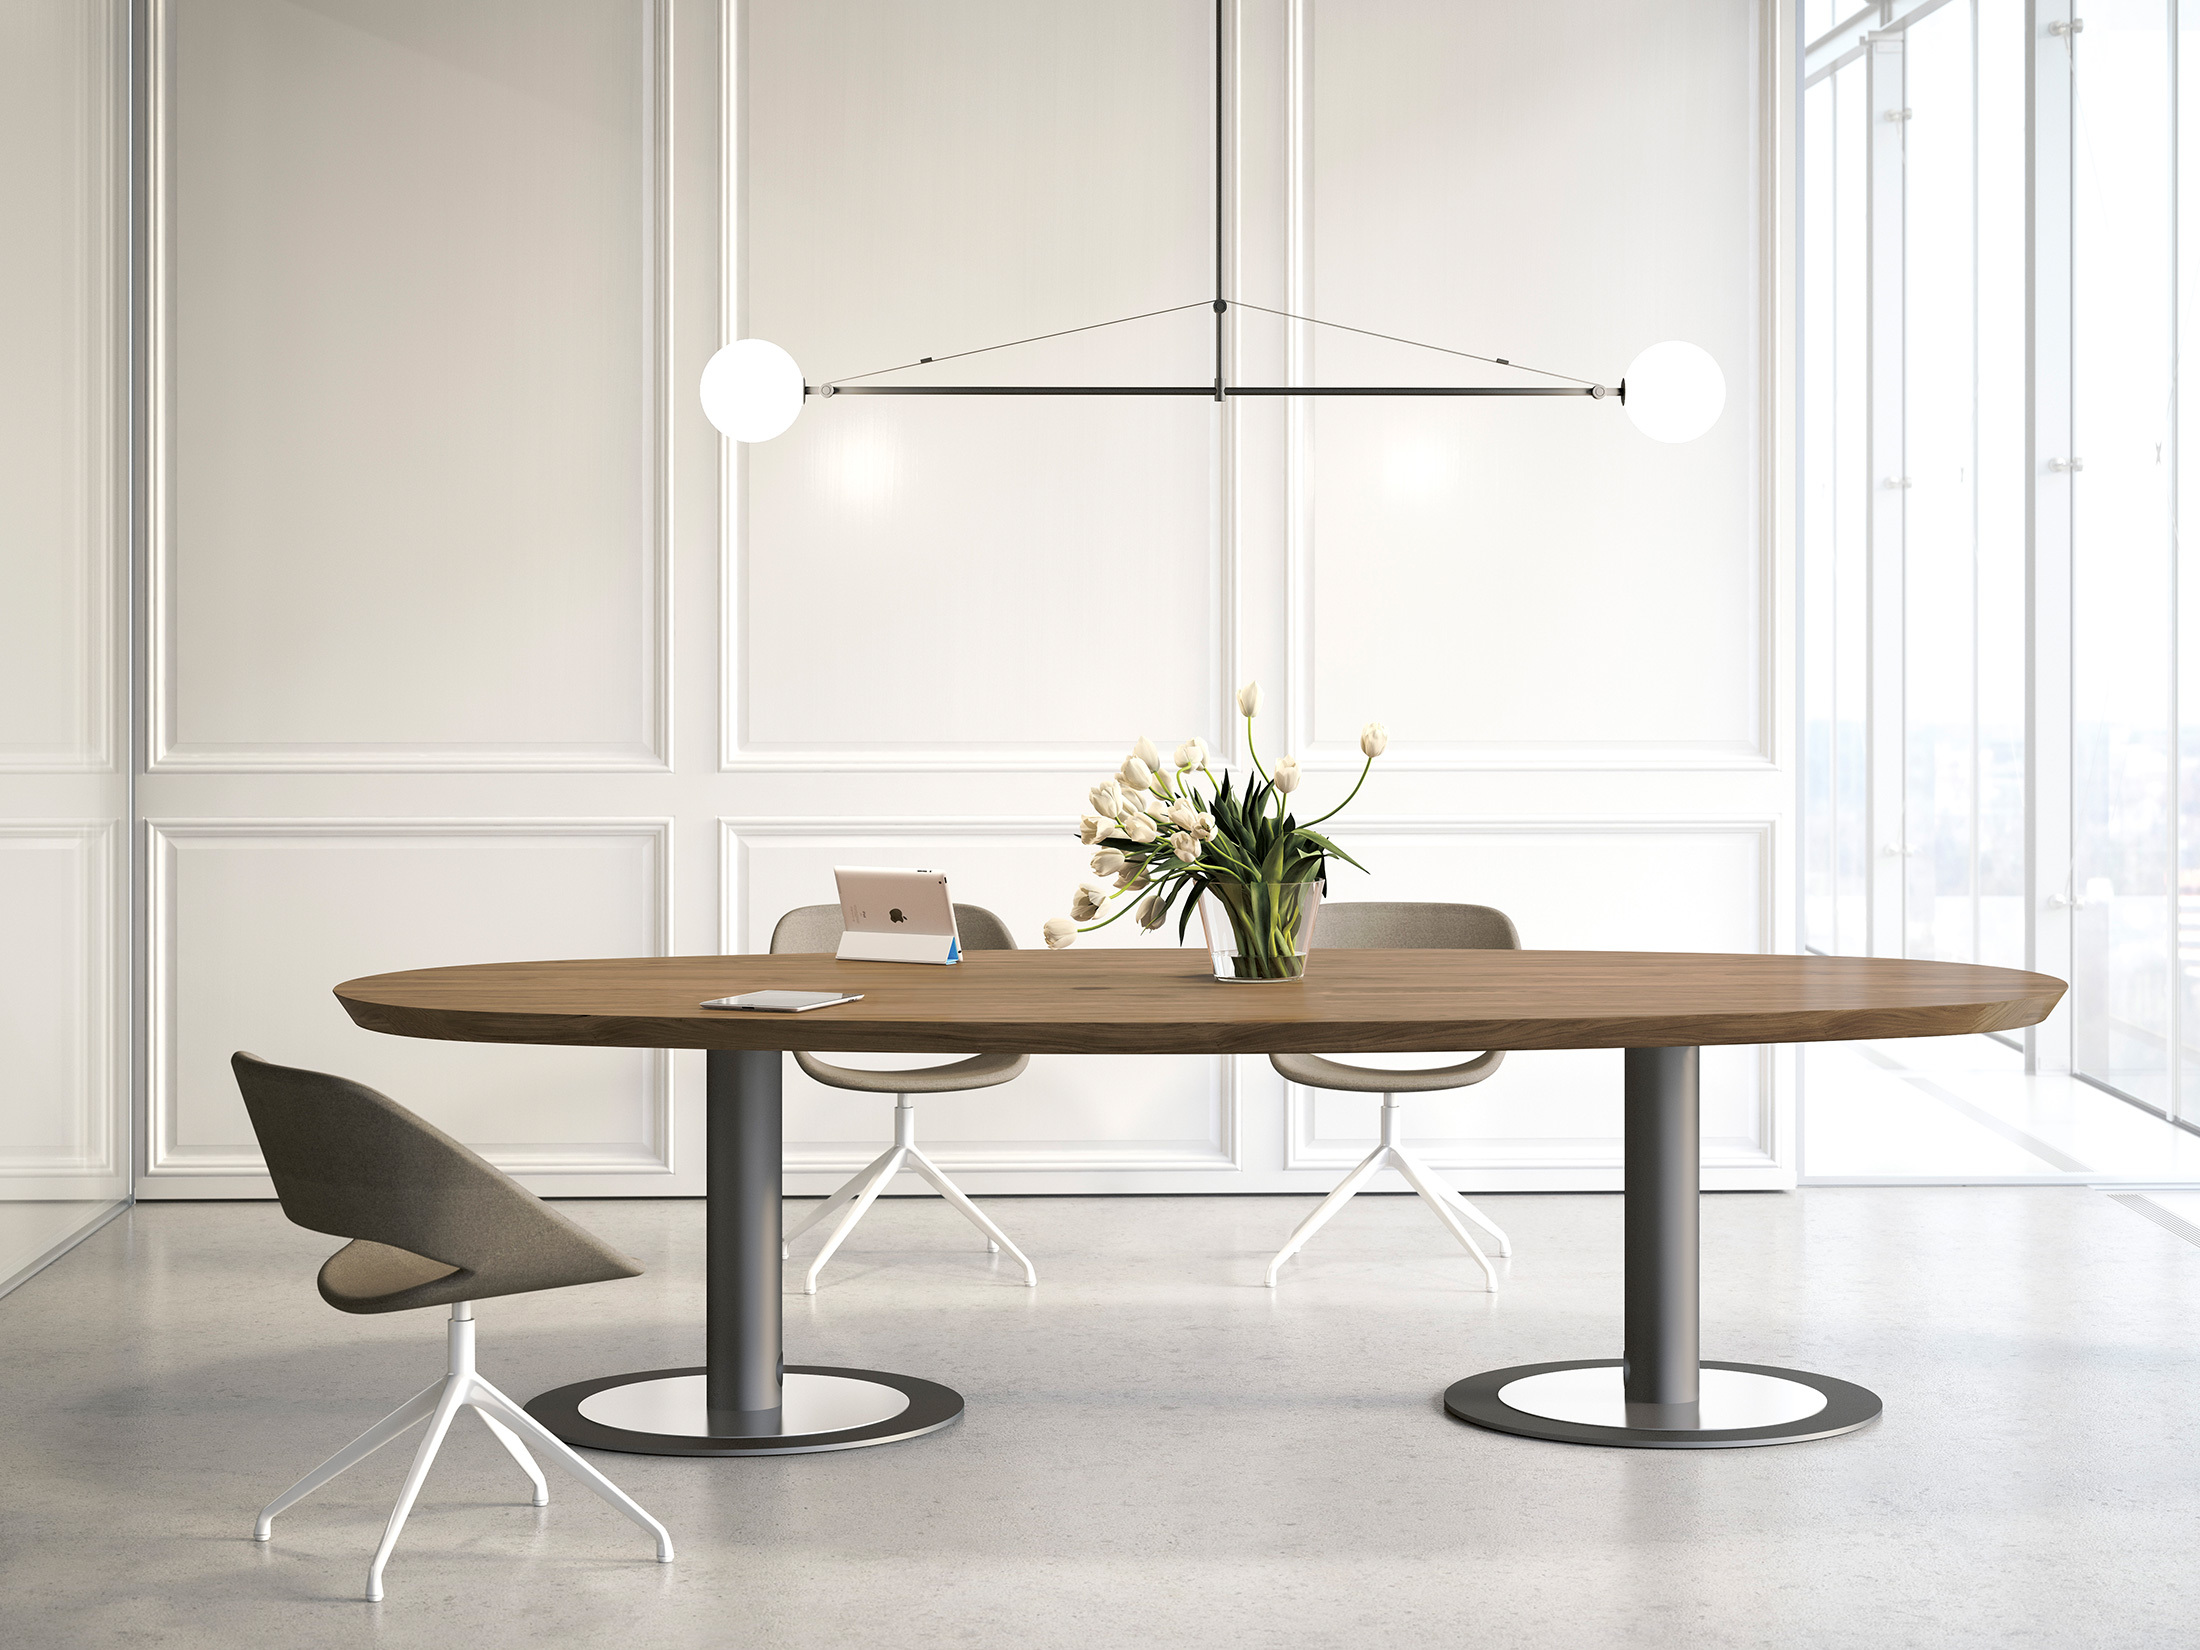conference_table: (334, 944, 2072, 1458)
